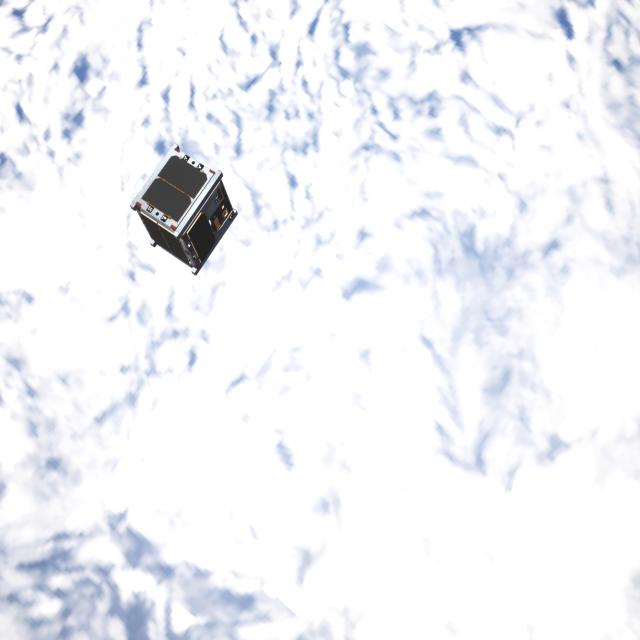medium_debris: (131, 148, 242, 275)
